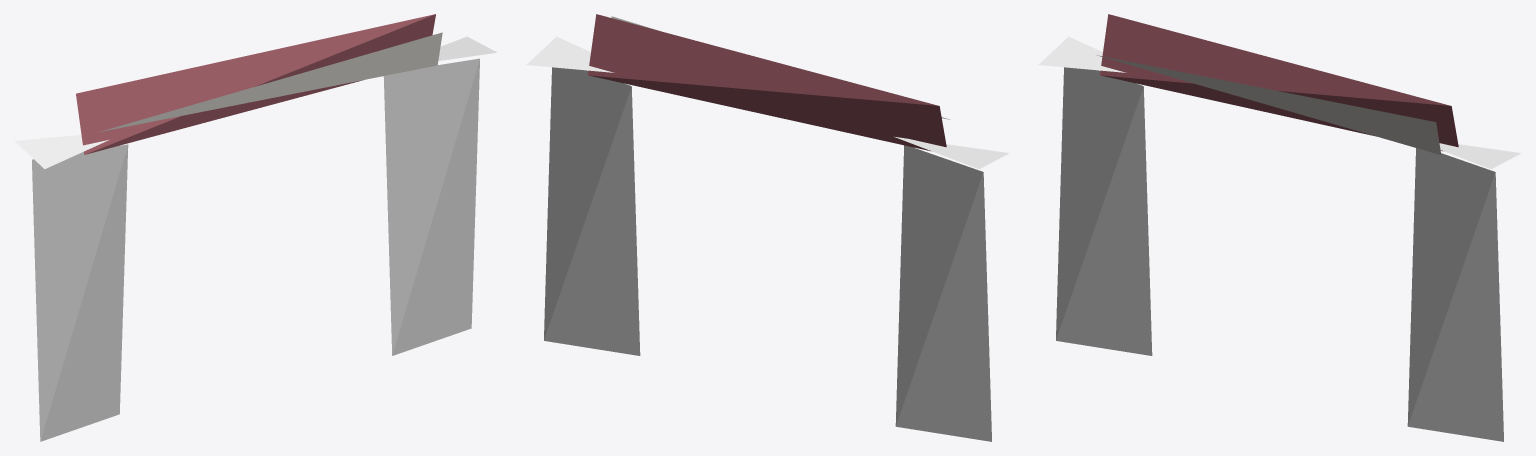
File: Arch_M11_MarqueeGate_LOD2.glb
The picture shows the model from 3 angles, left to right: view 1: azimuth 30°, elevation 25°; view 2: azimuth 150°, elevation 25°; view 3: azimuth 330°, elevation 25°; orthographic projection.
Parts seen in each view (by area): view 1: Arch_M11_MarqueeGate_LOD2; view 2: Arch_M11_MarqueeGate_LOD2; view 3: Arch_M11_MarqueeGate_LOD2.
Boxes of the visible parts, x1=… form: Arch_M11_MarqueeGate_LOD2: x1=15, y1=14, x2=496, y2=441; Arch_M11_MarqueeGate_LOD2: x1=526, y1=14, x2=1009, y2=441; Arch_M11_MarqueeGate_LOD2: x1=1038, y1=14, x2=1521, y2=441.
Bounding box in the file's own units: 10.3 × 7.2 × 1.2.
